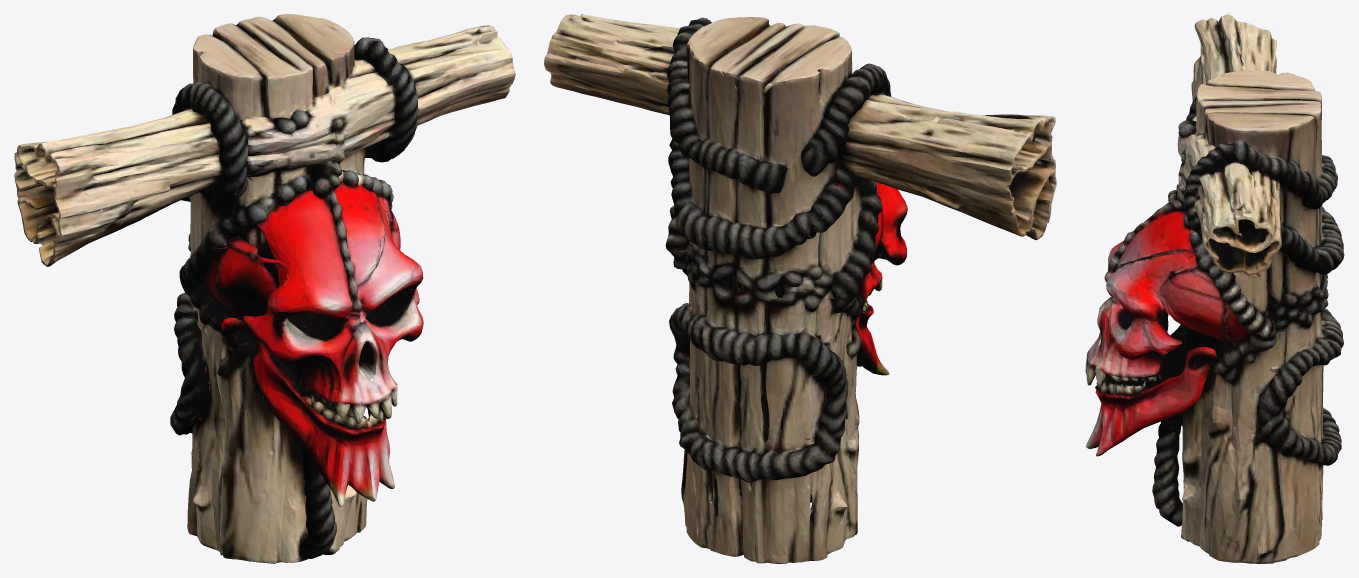
File: ogre_totem_01.glb
3 renders of one model, left to right at view 1: azimuth 30°, elevation 25°; view 2: azimuth 150°, elevation 25°; view 3: azimuth 270°, elevation 25°, orthographic. The views are drawn at different scales.
Visible parts, largest first — view 1: geometry_0; view 2: geometry_0; view 3: geometry_0.
Part boxes in pixels (box(x1,y1,x2,y2)): geometry_0: box(14, 14, 515, 563); geometry_0: box(544, 14, 1056, 563); geometry_0: box(1085, 14, 1344, 563).
Size of the model in its own units: 1 by 0.9992 by 0.5437.
Materials: 1 (1 with a texture image).
